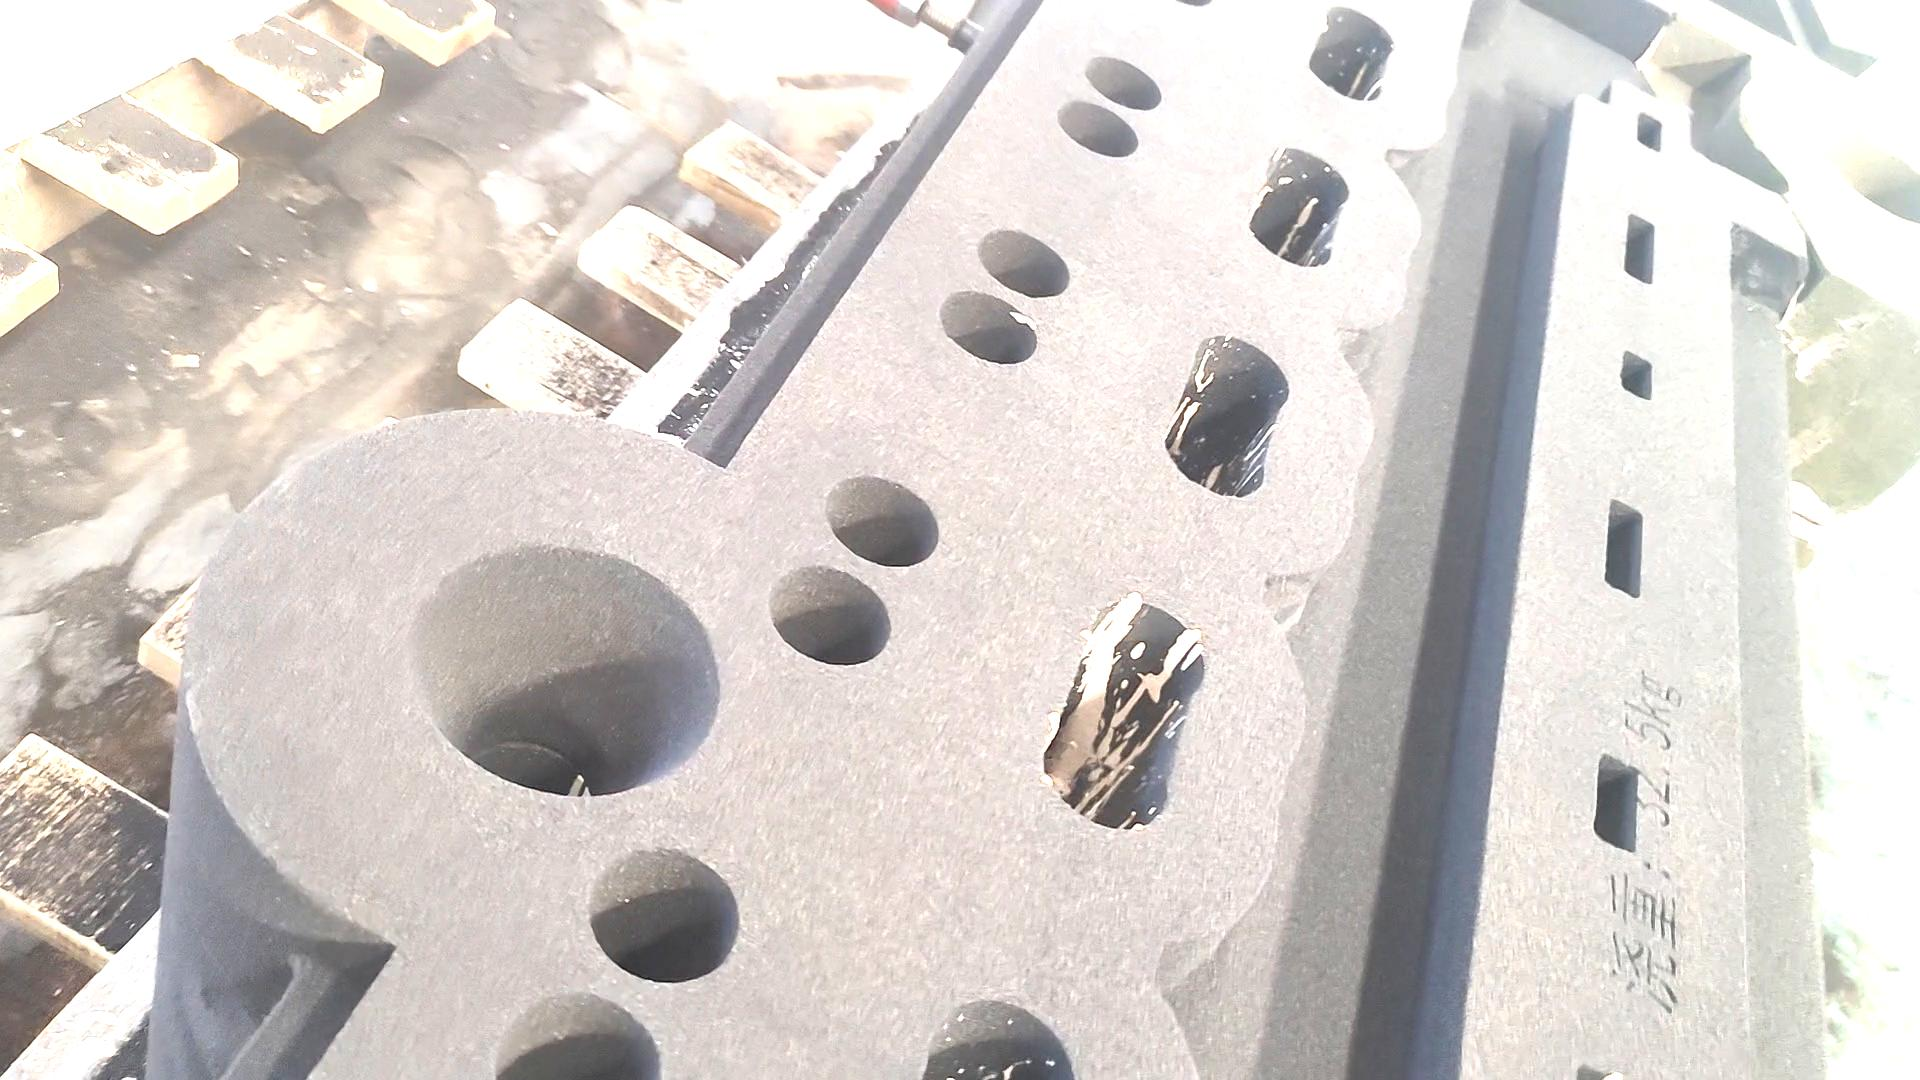pouring hole: (409, 547, 720, 796), (1826, 132, 1920, 224)
